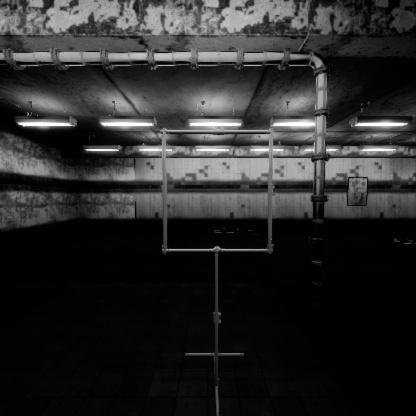gate: (162, 162, 283, 286)
